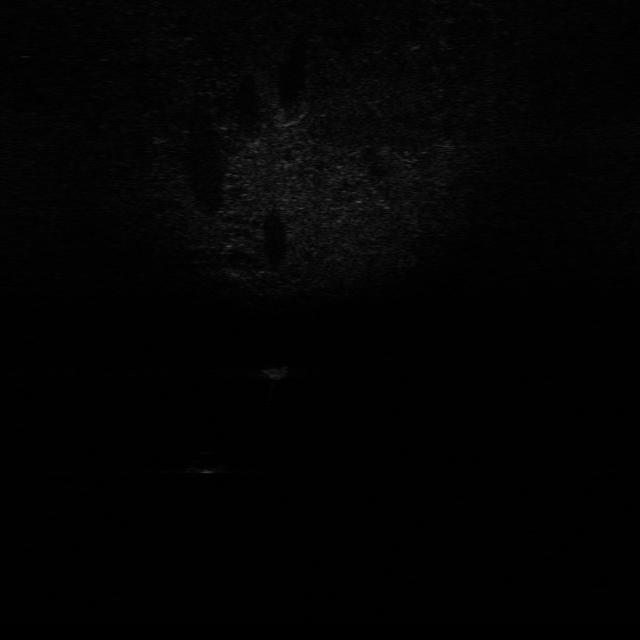ball: (192, 447, 228, 474)
cube: (260, 362, 290, 382)
